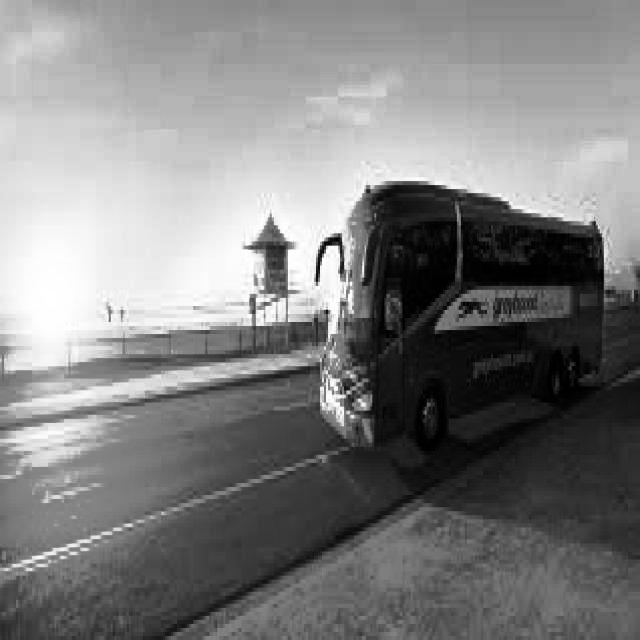Bus: (299, 149, 623, 453)
